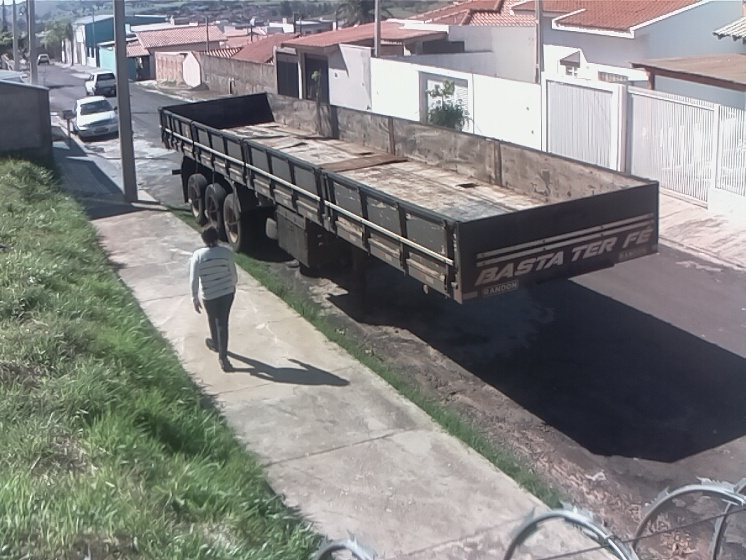person: (189, 225, 239, 374)
